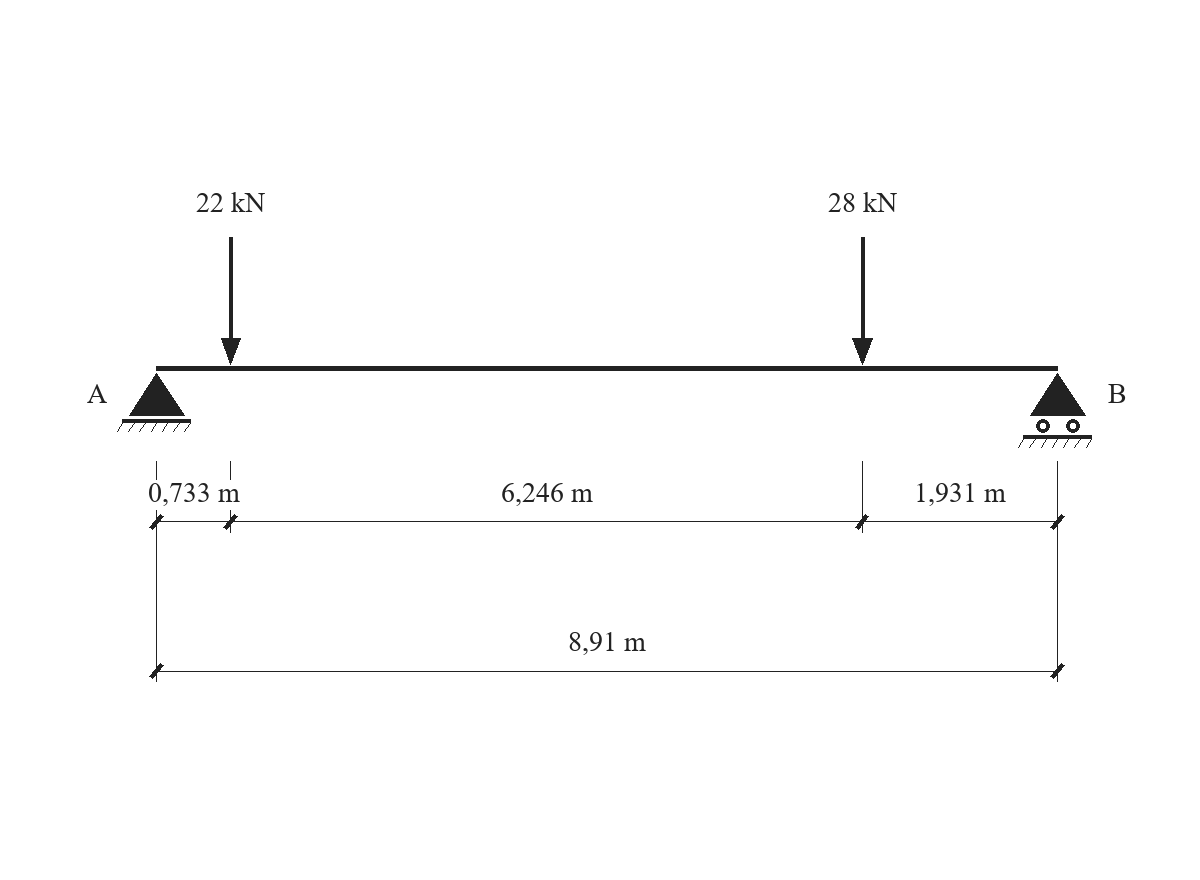pin_support: (117, 373, 191, 432)
point_load: (852, 237, 873, 365), (221, 237, 241, 365)
roller_support: (1018, 373, 1092, 448)
